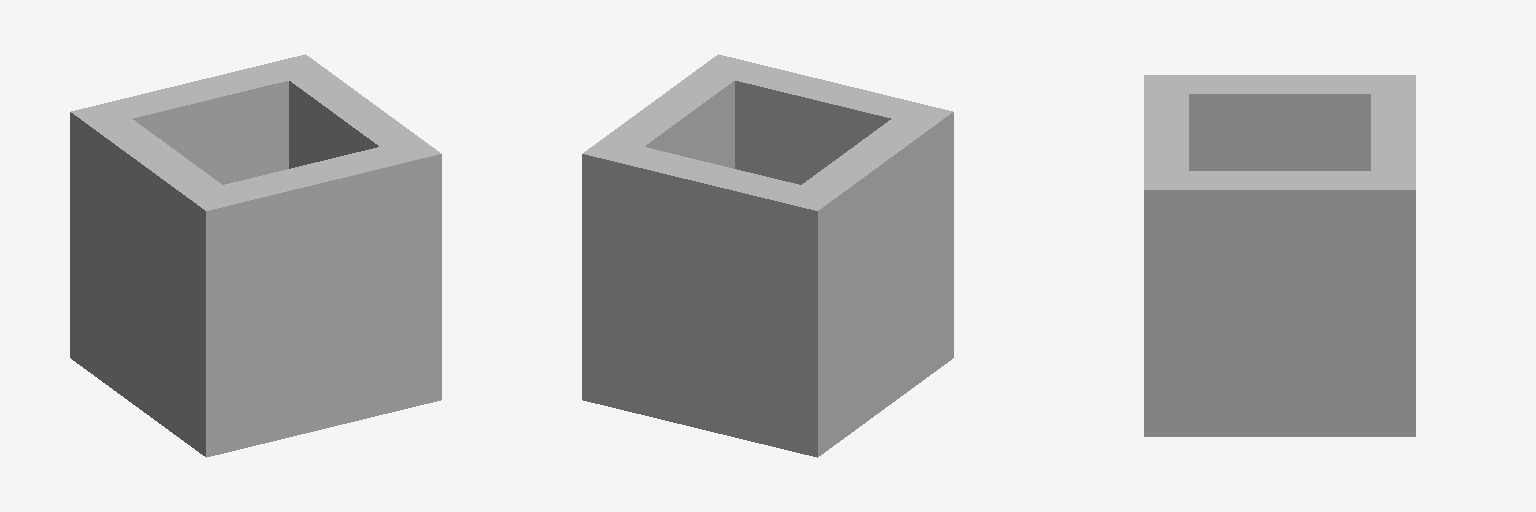
The model's file is cookingpot.obj.
The picture shows the model from 3 angles: view 1: azimuth 30°, elevation 25°; view 2: azimuth 150°, elevation 25°; view 3: azimuth 270°, elevation 25°; orthographic projection.
Visible parts, largest first — view 1: cube; view 2: cube; view 3: cube.
Part boxes in pixels (x1,y1,x2,y2): cube: (70, 54, 441, 457); cube: (582, 54, 953, 457); cube: (1144, 75, 1415, 436).
Size of the model in its own units: 0.75 by 0.75 by 0.75.